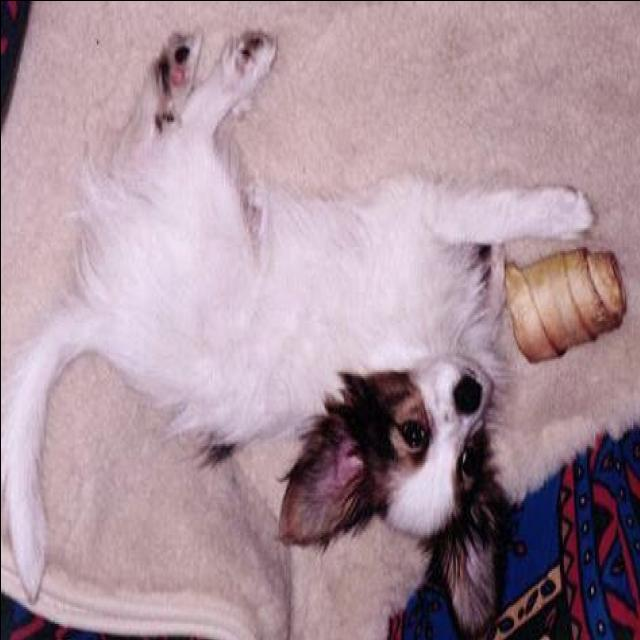papillon: (1, 32, 594, 640)
